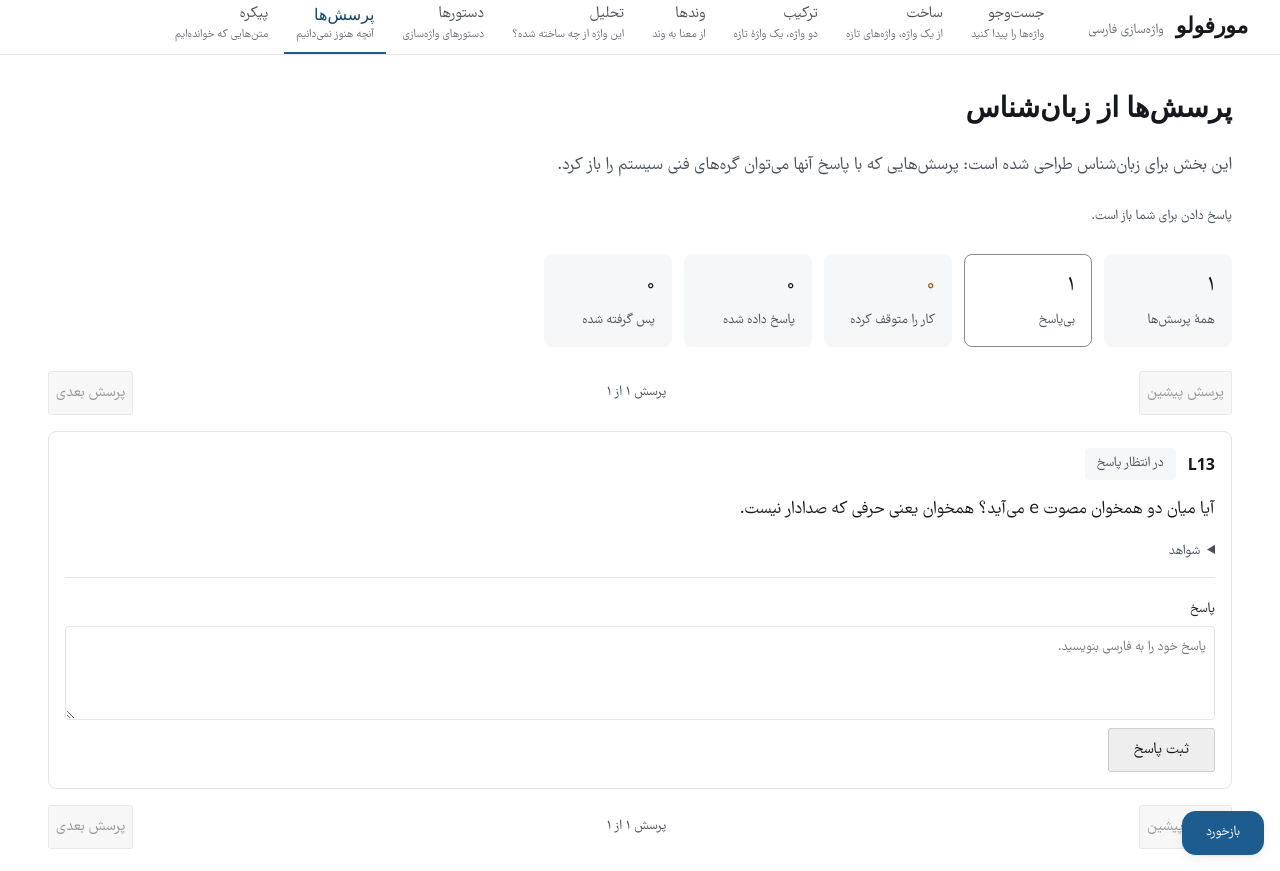
Test: the questions screen › puts Persian evidence on the screen with the question
Step 1. Click the heading "شواهد" → (1184, 552), box x1=1169 y1=542 x2=1200 y2=562
(page scrolled)
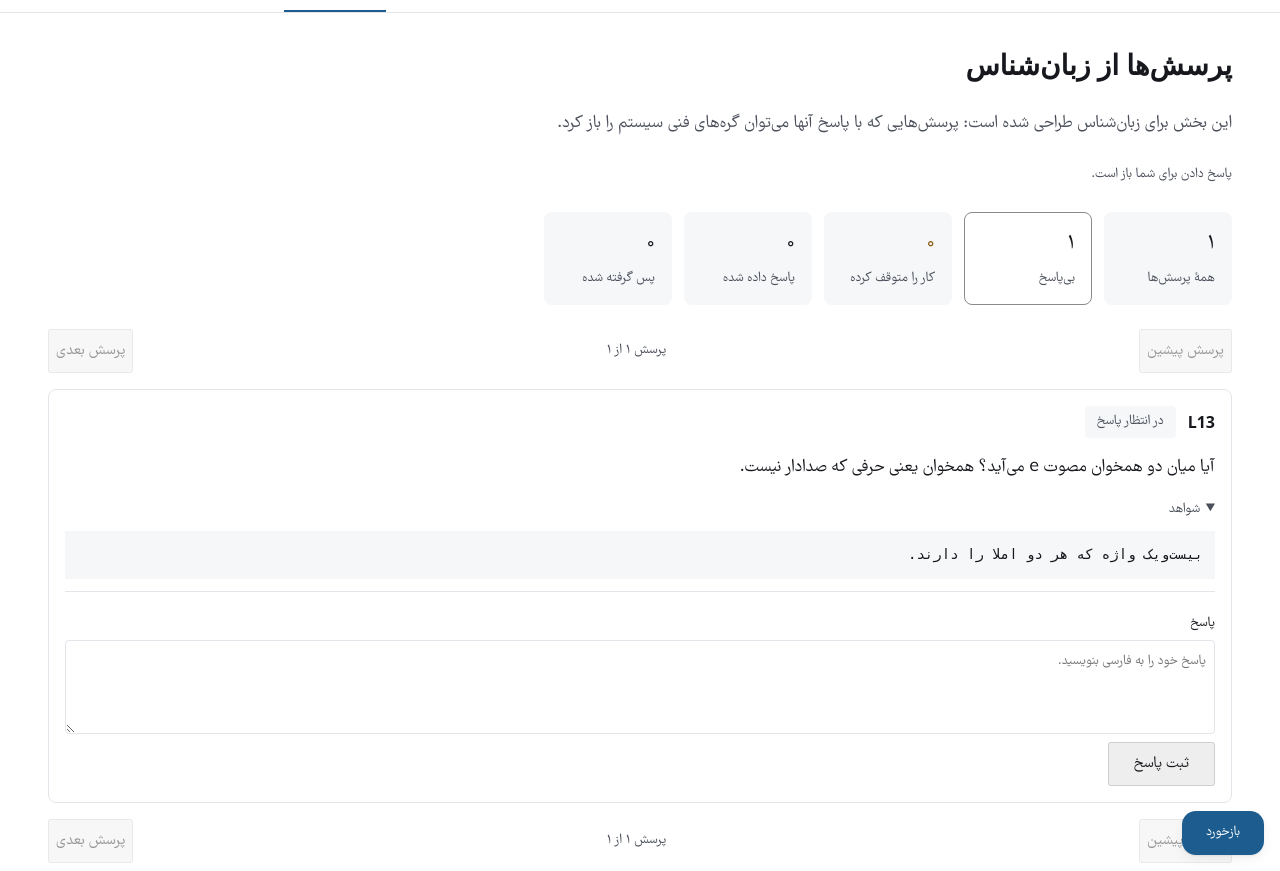
Now the text "بیست‌ویک واژه که هر دو املا را دارند." is shown, box x1=65 y1=531 x2=1215 y2=579
